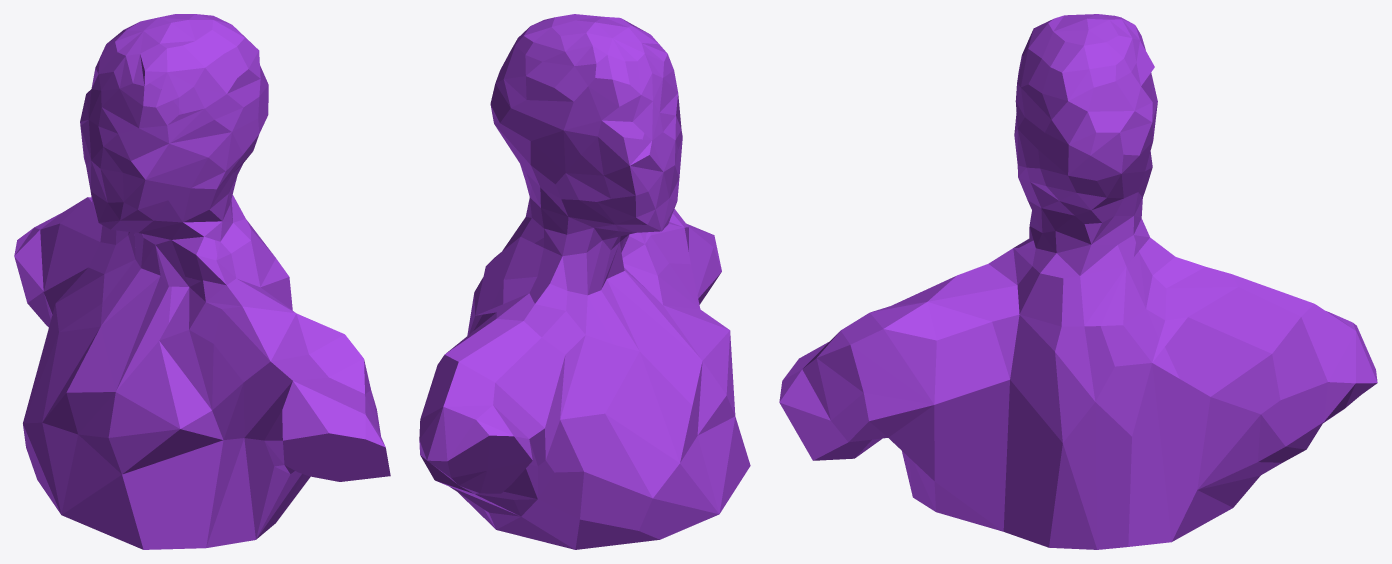
File: Statue.012_chunks.fbx
3 views of the same model, side by side, from view 1: azimuth 30°, elevation 25°; view 2: azimuth 150°, elevation 25°; view 3: azimuth 270°, elevation 25° (orthographic). The views are drawn at different scales.
Parts seen in each view (by area): view 1: Statue.012_1, Statue.012_0, Statue.012_3, Statue.012_2; view 2: Statue.012_3, Statue.012_2, Statue.012_0, Statue.012_1; view 3: Statue.012_1, Statue.012_3, Statue.012_2.
Part boxes in pixels (bbox=[...]): Statue.012_1: bbox=[78, 210, 390, 549]; Statue.012_0: bbox=[80, 81, 221, 462]; Statue.012_3: bbox=[14, 197, 161, 521]; Statue.012_2: bbox=[80, 14, 268, 221]; Statue.012_3: bbox=[419, 200, 725, 549]; Statue.012_2: bbox=[490, 14, 664, 251]; Statue.012_0: bbox=[610, 50, 732, 420]; Statue.012_1: bbox=[458, 209, 750, 507]; Statue.012_1: bbox=[779, 230, 1208, 549]; Statue.012_3: bbox=[1133, 206, 1377, 524]; Statue.012_2: bbox=[1014, 14, 1157, 279].
Bounding box in the file's own units: 181 × 345 × 389.
